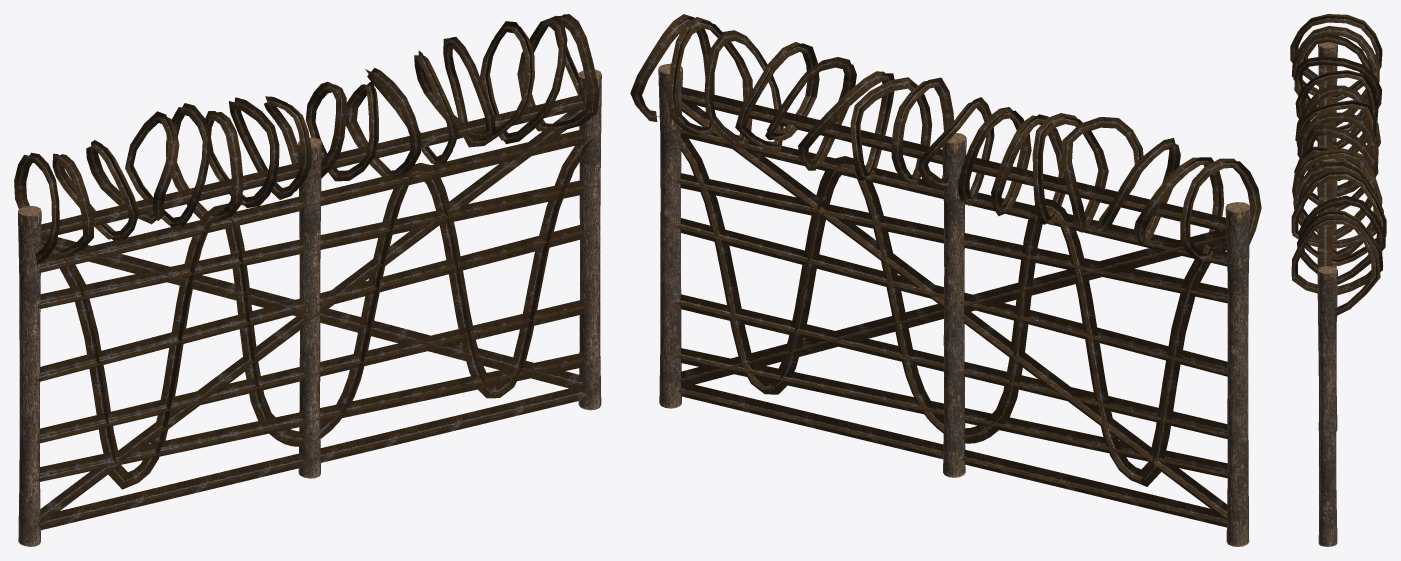
Rendered from Fence_wood_01.FBX.
The picture shows the model from 3 angles, left to right: view 1: azimuth 30°, elevation 25°; view 2: azimuth 150°, elevation 25°; view 3: azimuth 270°, elevation 25°; orthographic projection. The views are drawn at different scales.
Parts seen in each view (by area): view 1: Fence_wood_wire_01, Fence_wood_01; view 2: Fence_wood_wire_01, Fence_wood_01; view 3: Fence_wood_wire_01, Fence_wood_01.
Part boxes in pixels (x1,y1,x2,y2): Fence_wood_wire_01: [14, 14, 600, 530]; Fence_wood_01: [18, 69, 601, 546]; Fence_wood_wire_01: [630, 14, 1261, 527]; Fence_wood_01: [658, 63, 1250, 546]; Fence_wood_wire_01: [1290, 14, 1386, 531]; Fence_wood_01: [1318, 42, 1337, 546].
Bounding box in the file's own units: 501 × 320 × 86.54.
